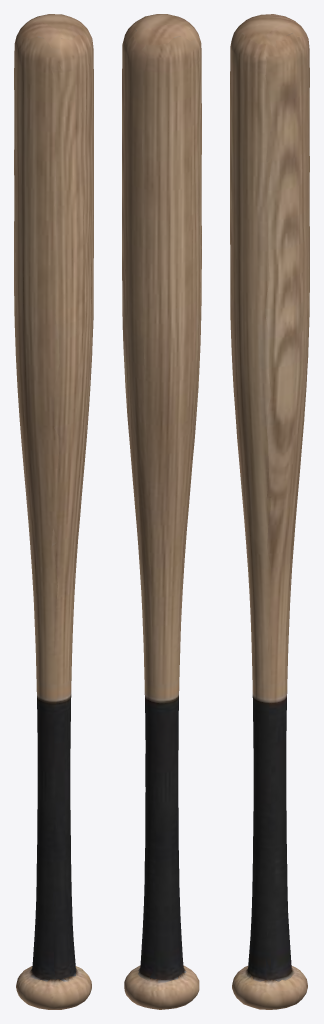
3 views of the same model, side by side, from view 1: azimuth 90°, elevation 25°; view 2: azimuth 150°, elevation 25°; view 3: azimuth 270°, elevation 25° (orthographic).
Parts seen in each view (by area): view 1: Mesh_0; view 2: Mesh_0; view 3: Mesh_0.
Boxes of the visible parts, left/top/right/bottom form: Mesh_0: left=14, top=14, right=93, bottom=1009; Mesh_0: left=122, top=14, right=201, bottom=1009; Mesh_0: left=230, top=14, right=309, bottom=1009.
Bounding box in the file's own units: 0.1412 × 1.91 × 0.1414.
Materials: 1 (1 with a texture image).
